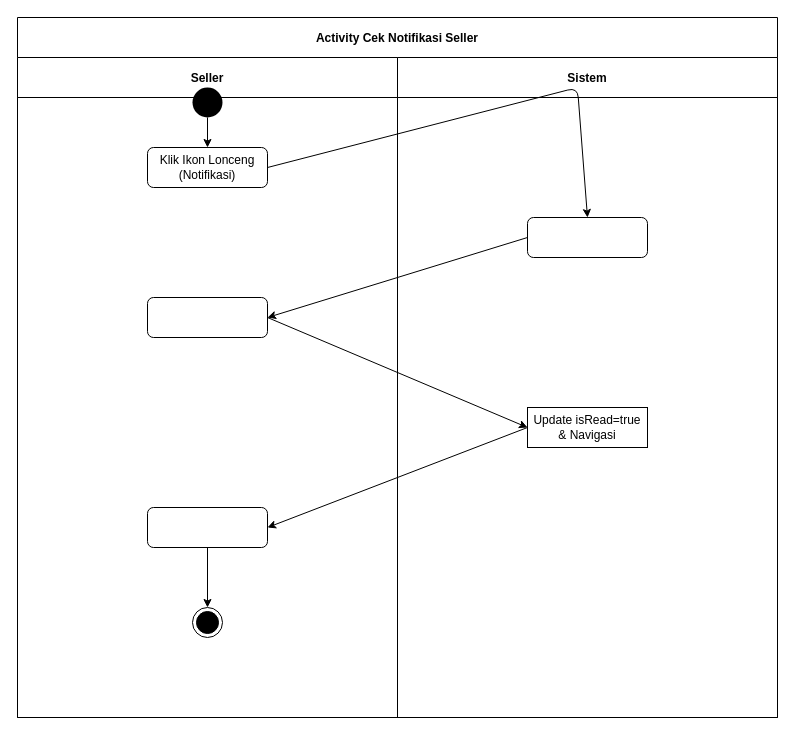
The diagram is 795 pixels wide and 735 high, and some of its shapes have lost their labels. Each missing label, with the centre of its shape:
Lihat Detail Pesanan Terkait: point 207,527
Pilih Notifikasi Pesanan Baru: point 207,317
Tampil Daftar Notifikasi (isRead=false): point 587,237
